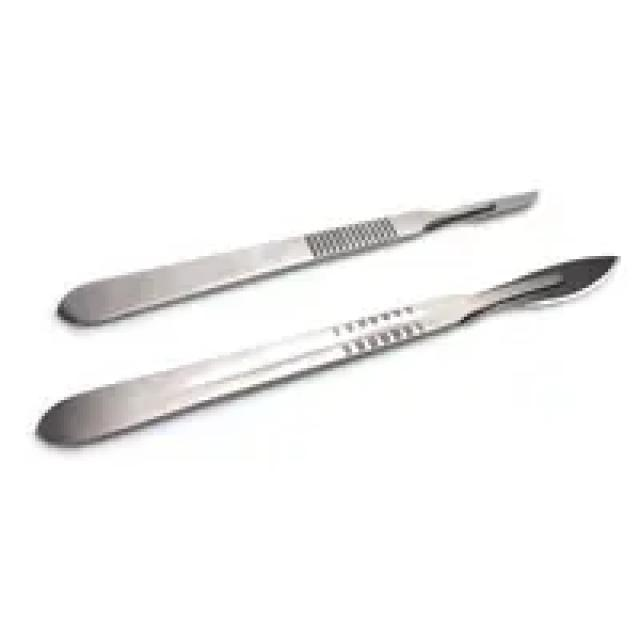Knife handle: (26, 271, 555, 458), (58, 208, 491, 328)
